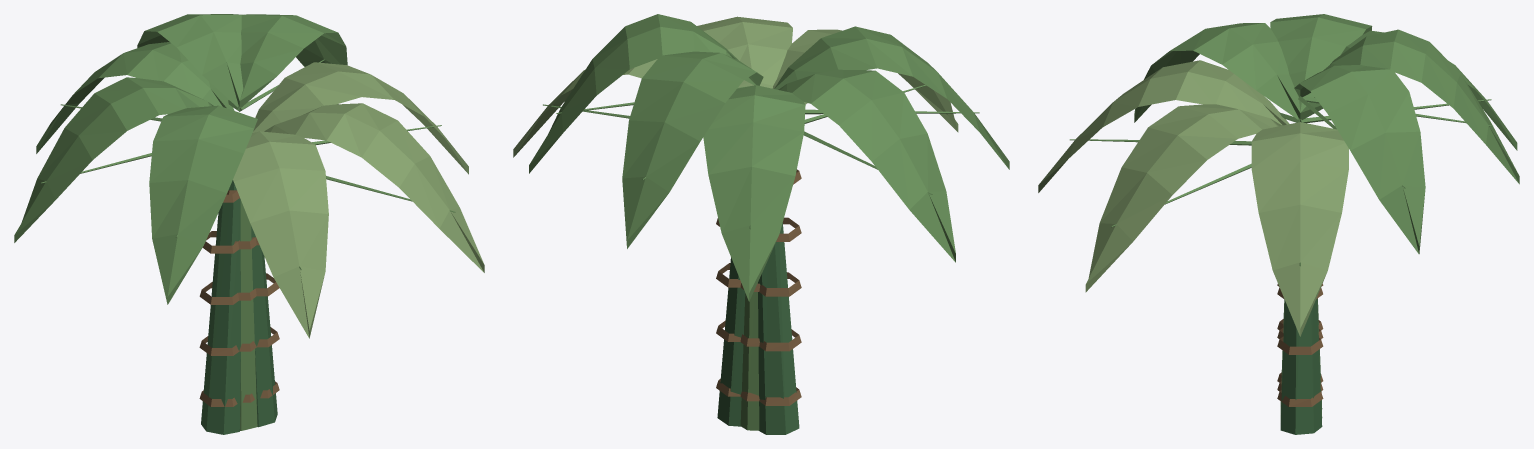
File: banana_young.glb
3 renders of one model, left to right at view 1: azimuth 30°, elevation 25°; view 2: azimuth 150°, elevation 25°; view 3: azimuth 270°, elevation 25°, orthographic. The views are drawn at different scales.
Visible parts, largest first — view 1: WoodlandMesh; view 2: WoodlandMesh; view 3: WoodlandMesh.
Boxes of the visible parts, x1,y1,x2,y2 form: WoodlandMesh: (14, 14, 484, 434); WoodlandMesh: (513, 14, 1009, 434); WoodlandMesh: (1038, 14, 1519, 434).
Bounding box in the file's own units: 4.45 × 3.64 × 4.18.
